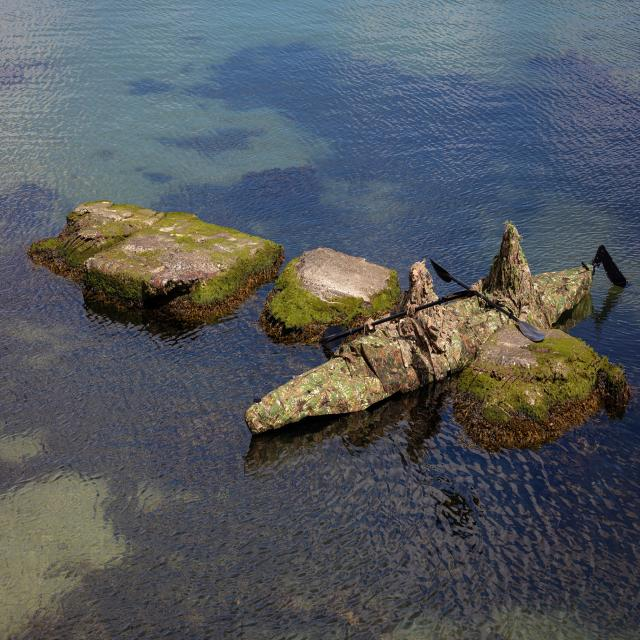Camouflage: (471, 223, 539, 311), (393, 260, 446, 340)
